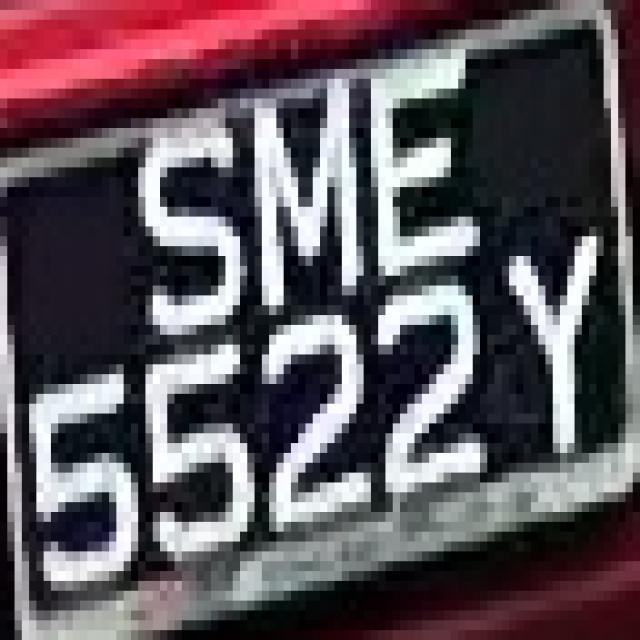2: (349, 246, 509, 532), (255, 286, 392, 532)
5: (124, 315, 276, 581), (22, 334, 145, 600)
E: (349, 0, 487, 286)
M: (233, 59, 378, 335)
S: (116, 89, 262, 325)
Y: (480, 217, 625, 462)
